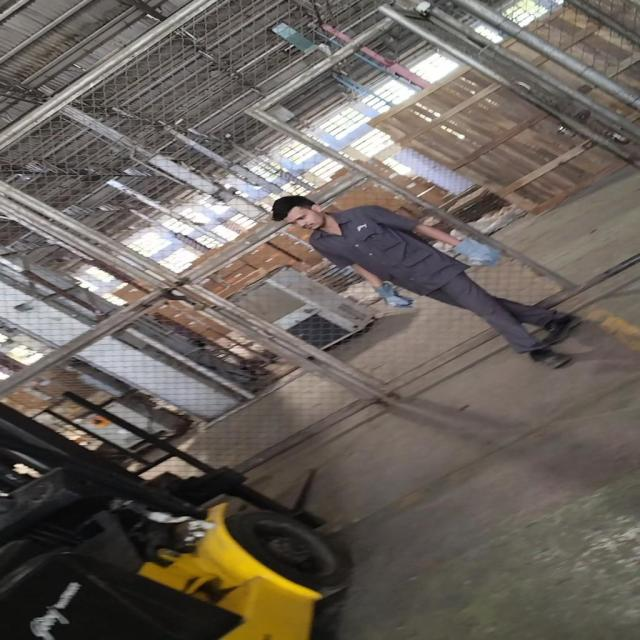Gloves-Detection: (447, 238, 499, 267), (369, 280, 409, 317)
